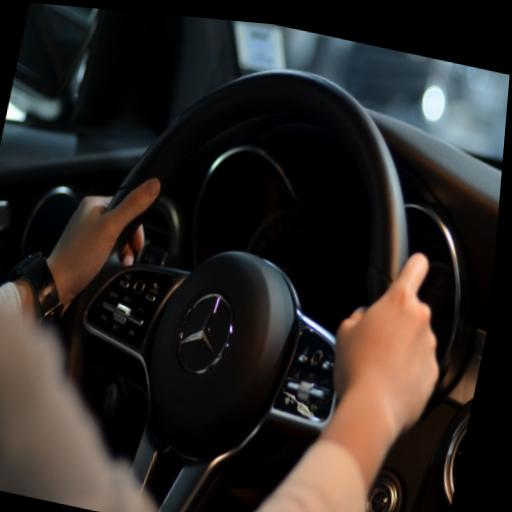Hands-on-the-Wheel: (277, 220, 470, 461), (5, 138, 179, 317)
